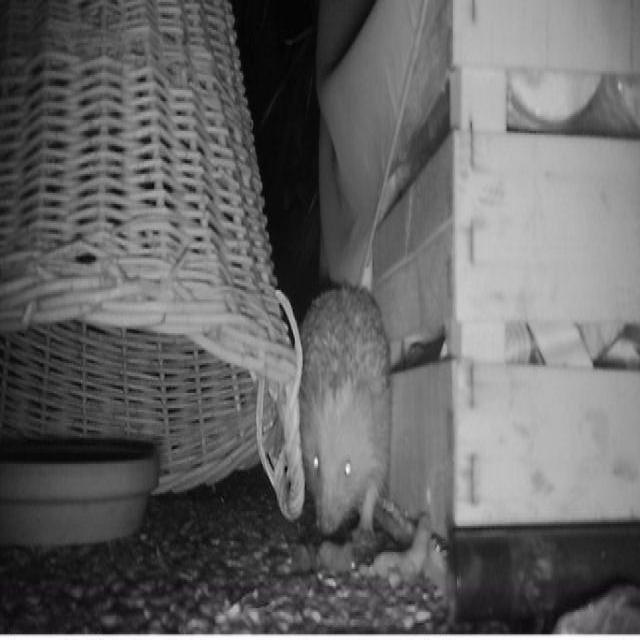Hedgehog: (291, 275, 397, 543)
